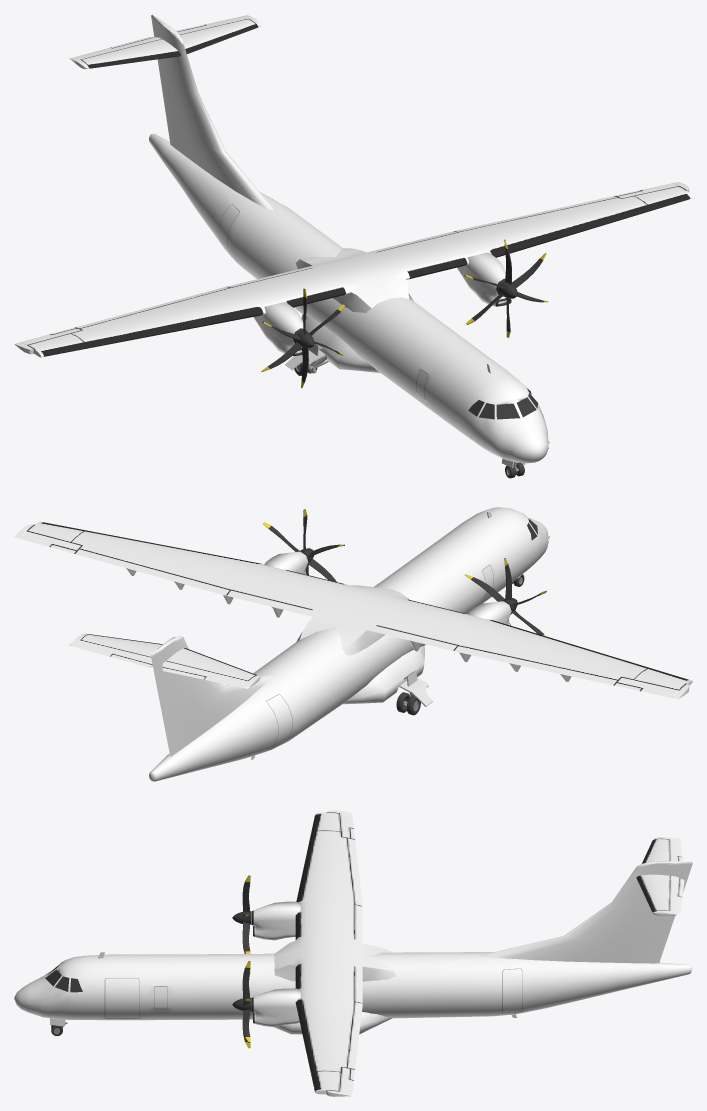
Rendered from atr.glb.
The picture shows the model from 3 angles, top to bottom: view 1: azimuth 30°, elevation 25°; view 2: azimuth 150°, elevation 25°; view 3: azimuth 270°, elevation 25°; orthographic projection. The views are drawn at different scales.
Parts seen in each view (by area): view 1: Circle.023_Body Wings_0_4, Circle.025_Wings_0_11, Circle.024_Body Wings_0_9, Circle.026_Wings_0_13, Cube.026_Engines Wing_0_15, Cylinder.024_Black_0_40, Circle.023_Jendela_0_5; view 2: Circle.023_Body Wings_0_4, Circle.025_Wings_0_11, Circle.024_Body Wings_0_9, Circle.026_Wings_0_13, Cylinder.024_Black_0_40, Cube.026_Engines Wing_0_15, Cube.027_Body White_0_20, Cube.029_Body White_0_34; view 3: Circle.023_Body Wings_0_4, Circle.025_Wings_0_11, Circle.024_Body Wings_0_9, Cube.026_Engines Wing_0_15, Circle.026_Wings_0_13, Cylinder.024_Black_0_40, Circle.023_Jendela_0_5.
Part boxes in pixels (box(x1,y1,x2,y2)): Circle.023_Body Wings_0_4: box(149, 133, 548, 463); Circle.025_Wings_0_11: box(14, 182, 692, 357); Circle.024_Body Wings_0_9: box(151, 14, 272, 210); Circle.026_Wings_0_13: box(69, 15, 260, 69); Cube.026_Engines Wing_0_15: box(253, 252, 506, 355); Cylinder.024_Black_0_40: box(261, 239, 544, 382); Circle.023_Jendela_0_5: box(468, 388, 537, 419); Circle.023_Body Wings_0_4: box(149, 507, 548, 781); Circle.025_Wings_0_11: box(14, 521, 692, 698); Circle.024_Body Wings_0_9: box(151, 636, 272, 756); Circle.026_Wings_0_13: box(69, 633, 260, 688); Cylinder.024_Black_0_40: box(268, 509, 546, 635); Cube.026_Engines Wing_0_15: box(264, 551, 511, 625); Cube.027_Body White_0_20: box(399, 670, 432, 706); Cube.029_Body White_0_34: box(126, 568, 571, 681); Circle.023_Body Wings_0_4: box(14, 952, 691, 1034); Circle.025_Wings_0_11: box(274, 810, 395, 1096); Circle.024_Body Wings_0_9: box(480, 861, 692, 963); Cube.026_Engines Wing_0_15: box(253, 901, 300, 1026); Circle.026_Wings_0_13: box(636, 837, 684, 915); Cylinder.024_Black_0_40: box(232, 875, 250, 1042); Circle.023_Jendela_0_5: box(45, 965, 82, 992).
Size of the model in its own units: 5.48 by 1.55 by 5.54.
Materials: 10 (1 with a texture image).
